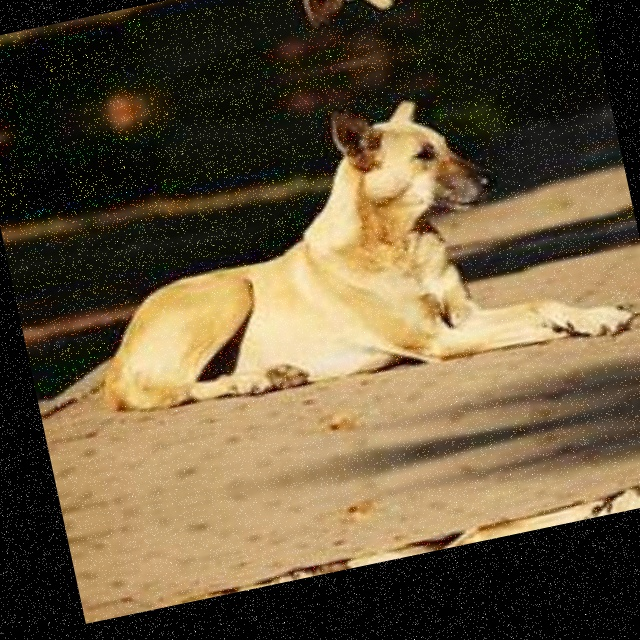dog: (98, 64, 634, 458), (182, 452, 640, 602), (67, 0, 551, 73)
